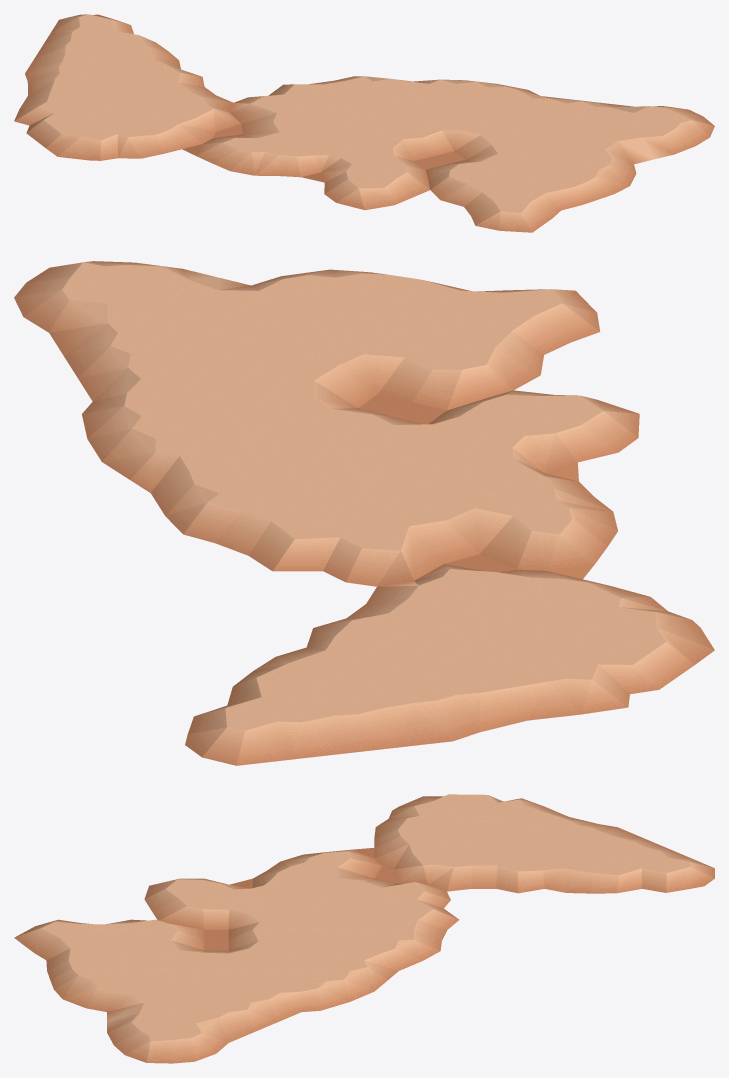
Rendered from twin-island-70.glb.
3 renders of one model, top to bottom at view 1: azimuth 30°, elevation 25°; view 2: azimuth 150°, elevation 25°; view 3: azimuth 270°, elevation 25°, orthographic. The views are drawn at different scales.
Parts seen in each view (by area): view 1: twin-island; view 2: twin-island; view 3: twin-island.
Part boxes in pixels (x1=…): twin-island: x1=14, y1=14, x2=714, y2=232; twin-island: x1=14, y1=261, x2=714, y2=765; twin-island: x1=14, y1=794, x2=714, y2=1063.
Size of the model in its own units: 306 by 5.52 by 339.
Materials: 1 (1 with a texture image).
